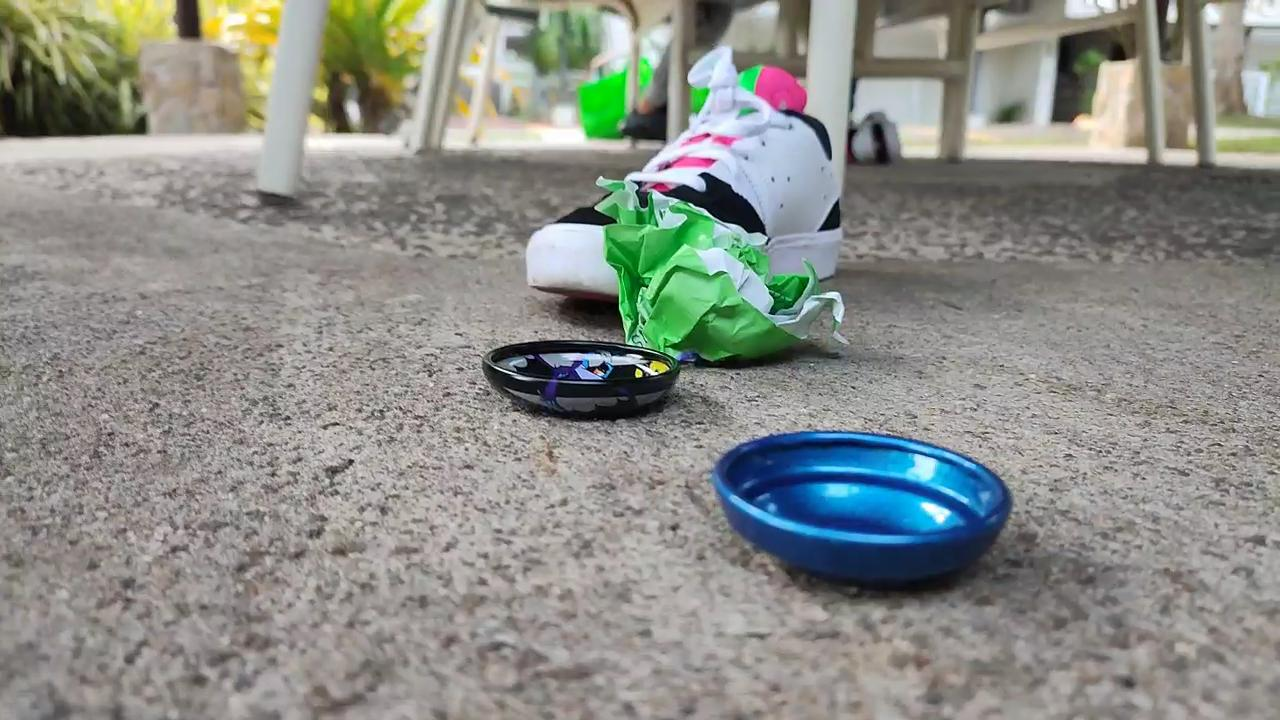Paper: (604, 185, 826, 355)
